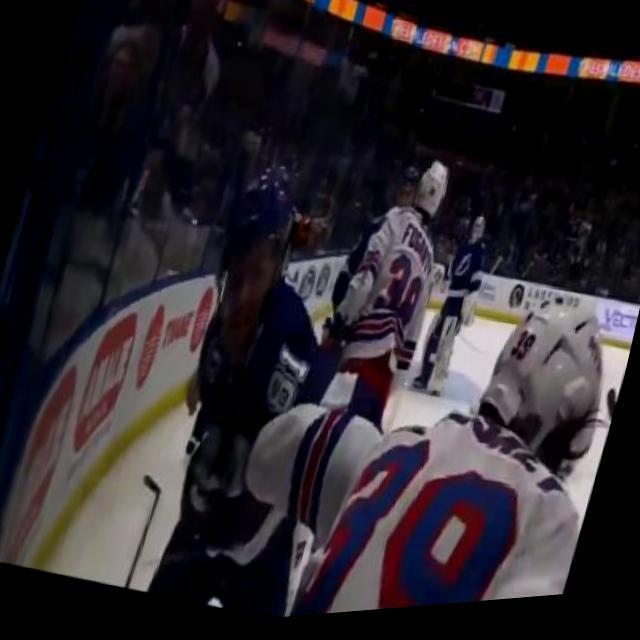fight: (149, 205, 640, 630), (111, 133, 497, 633)
